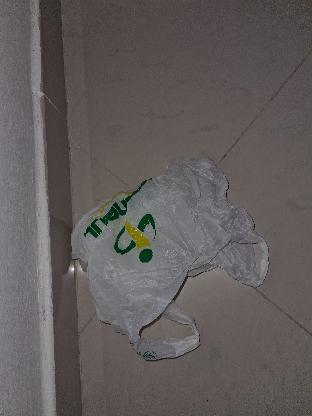Plastic Bag: (76, 160, 268, 358)
